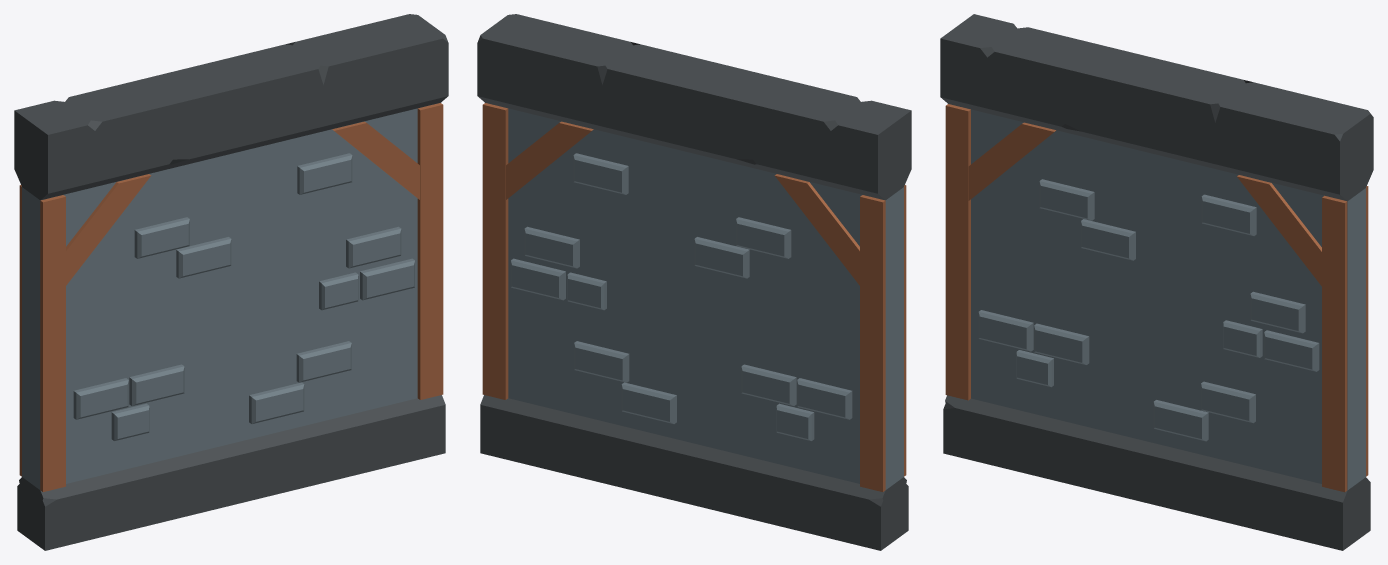
Rendered from wall_2_1.obj.
3 renders of one model, left to right at view 1: azimuth 30°, elevation 25°; view 2: azimuth 150°, elevation 25°; view 3: azimuth 330°, elevation 25°, orthographic.
Visible parts, largest first — view 1: wall_2_1; view 2: wall_2_1; view 3: wall_2_1.
Boxes of the visible parts, left/top/right/bottom form: wall_2_1: left=14, top=14, right=448, bottom=550; wall_2_1: left=477, top=14, right=911, bottom=550; wall_2_1: left=940, top=14, right=1373, bottom=550.
Bounding box in the file's own units: 1.53 × 1.53 × 0.2228.
